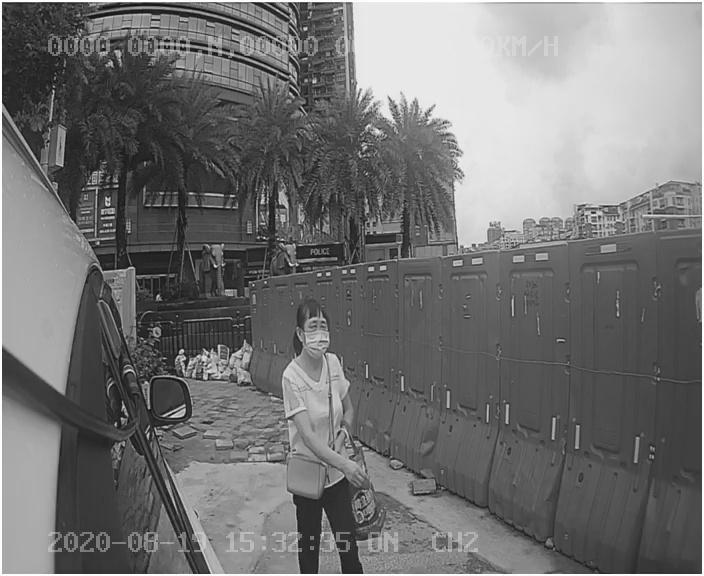person: (267, 294, 392, 530)
